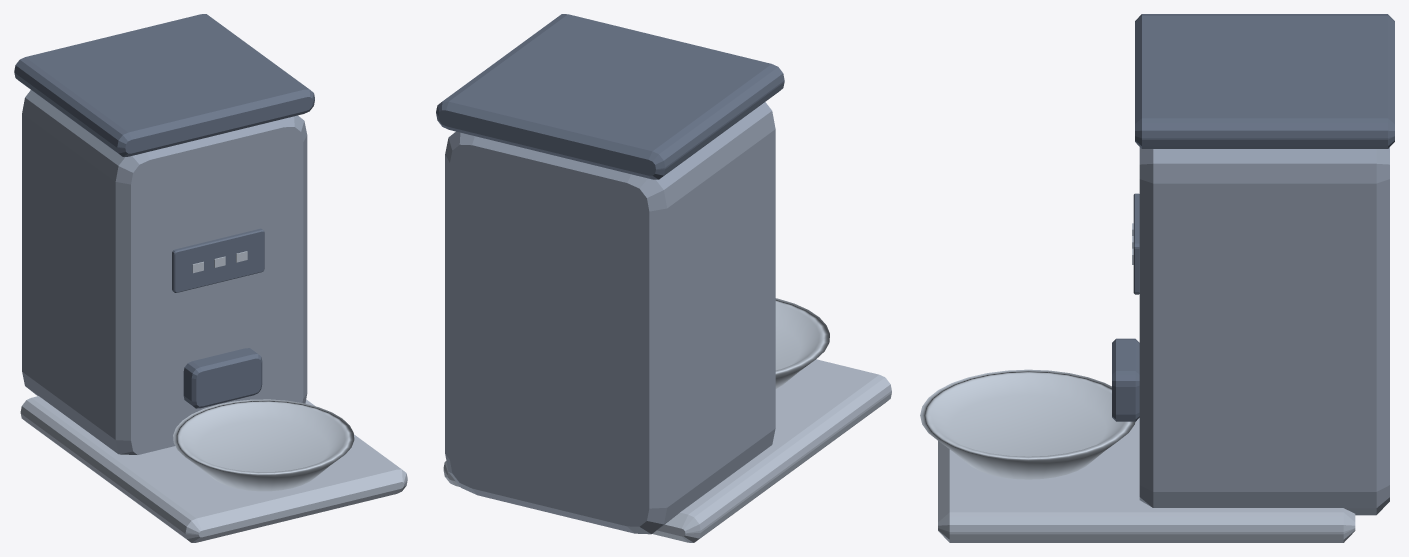
The model's file is pet-feeder-lite.glb.
3 renders of one model, left to right at view 1: azimuth 30°, elevation 25°; view 2: azimuth 150°, elevation 25°; view 3: azimuth 270°, elevation 25°, orthographic. The views are drawn at different scales.
Parts seen in each view (by area): view 1: body, dark, soft, light; view 2: body, dark, soft, light; view 3: body, dark, soft, light.
Part boxes in pixels (x1,y1,x2,y2): body: (22,90,307,454); dark: (14,14,314,408); soft: (20,396,407,542); light: (173,251,354,491); body: (445,102,775,534); dark: (436,14,784,179); soft: (443,359,891,542); light: (775,298,829,388); body: (1139,147,1389,515); dark: (1112,14,1394,421); soft: (938,418,1355,542); light: (920,223,1135,479).
Bounding box in the file's own units: 0.22 × 0.33 × 0.3415.
